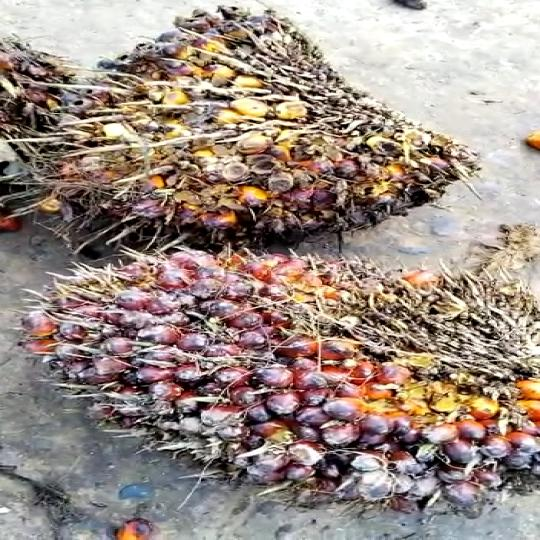masak: (44, 242, 540, 510), (34, 4, 496, 260)
